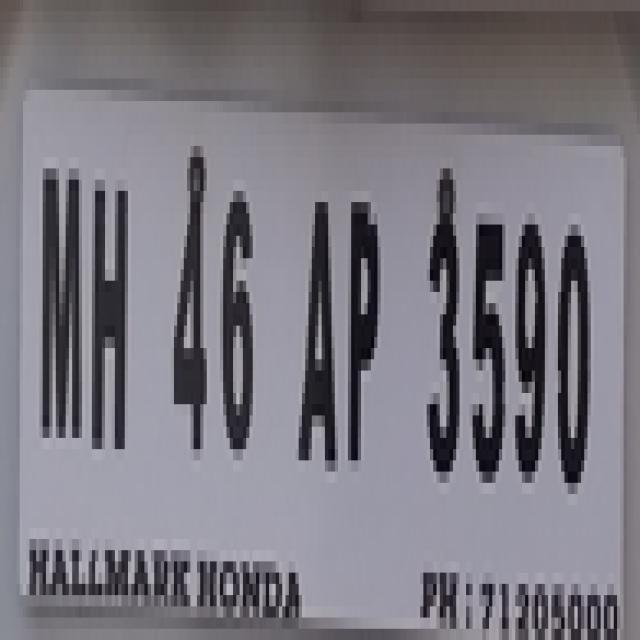0: (553, 203, 597, 493)
3: (417, 195, 464, 483)
4: (168, 167, 212, 455)
5: (470, 195, 510, 493)
6: (216, 167, 262, 472)
9: (513, 195, 551, 498)
A: (290, 165, 342, 482)
H: (84, 158, 139, 476)
M: (34, 147, 91, 467)
P: (342, 175, 389, 483)
